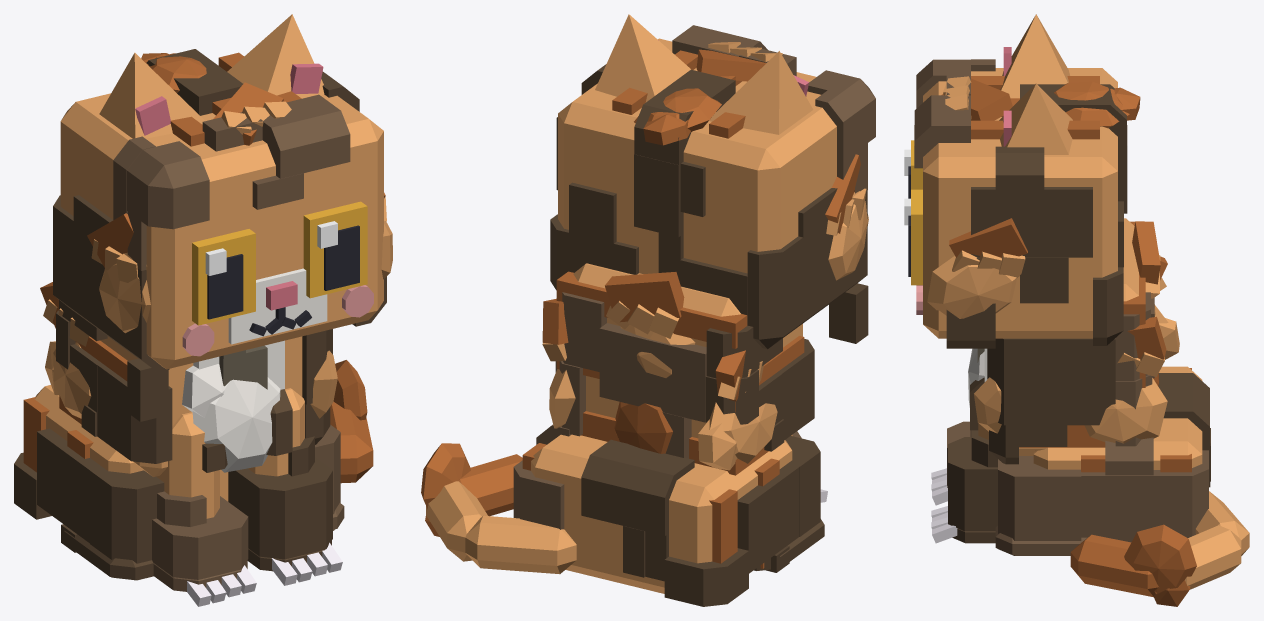
The model's file is CleanACat_Cat_Muffin_Dirty_Sit.fbx.
3 renders of one model, left to right at view 1: azimuth 30°, elevation 25°; view 2: azimuth 150°, elevation 25°; view 3: azimuth 270°, elevation 25°, orthographic. The views are drawn at different scales.
Visible parts, largest first — view 1: CleanACat_Cat_Muffin_Dirty_Sit_Head, CleanACat_Cat_Muffin_Dirty_Sit_Mud17, CleanACat_Cat_Muffin_Dirty_Sit_Mud01, CleanACat_Cat_Muffin_Dirty_Sit_Body, CleanACat_Cat_Muffin_Dirty_Sit_Mud06, CleanACat_Cat_Muffin_Dirty_Sit_Mud03, CleanACat_Cat_Muffin_Dirty_Sit_Mud18, CleanACat_Cat_Muffin_Dirty_Sit_Mud16, CleanACat_Cat_Muffin_Dirty_Sit_Fluff04, CleanACat_Cat_Muffin_Dirty_Sit_Mud14, CleanACat_Cat_Muffin_Dirty_Sit_Mud10, CleanACat_Cat_Muffin_Dirty_Sit_Eye1 (+23 smaller); view 2: CleanACat_Cat_Muffin_Dirty_Sit_Head, CleanACat_Cat_Muffin_Dirty_Sit_Body, CleanACat_Cat_Muffin_Dirty_Sit_Mud01, CleanACat_Cat_Muffin_Dirty_Sit_Mud09, CleanACat_Cat_Muffin_Dirty_Sit_Tail, CleanACat_Cat_Muffin_Dirty_Sit_Mud13, CleanACat_Cat_Muffin_Dirty_Sit_Mud04, CleanACat_Cat_Muffin_Dirty_Sit_Mud14, CleanACat_Cat_Muffin_Dirty_Sit_Mud05, CleanACat_Cat_Muffin_Dirty_Sit_Mud06, CleanACat_Cat_Muffin_Dirty_Sit_EarR, CleanACat_Cat_Muffin_Dirty_Sit_EarL (+17 smaller); view 3: CleanACat_Cat_Muffin_Dirty_Sit_Head, CleanACat_Cat_Muffin_Dirty_Sit_Mud02, CleanACat_Cat_Muffin_Dirty_Sit_Mud08, CleanACat_Cat_Muffin_Dirty_Sit_Mud12, CleanACat_Cat_Muffin_Dirty_Sit_Mud15, CleanACat_Cat_Muffin_Dirty_Sit_Tail, CleanACat_Cat_Muffin_Dirty_Sit_Body, CleanACat_Cat_Muffin_Dirty_Sit_Mud17, CleanACat_Cat_Muffin_Dirty_Sit_Fluff01, CleanACat_Cat_Muffin_Dirty_Sit_Fluff09, CleanACat_Cat_Muffin_Dirty_Sit_EarL, CleanACat_Cat_Muffin_Dirty_Sit_EarR (+17 smaller).
Part boxes in pixels (x1,y1,x2,y2): CleanACat_Cat_Muffin_Dirty_Sit_Head: [60, 52, 383, 369]; CleanACat_Cat_Muffin_Dirty_Sit_Mud17: [228, 436, 332, 571]; CleanACat_Cat_Muffin_Dirty_Sit_Mud01: [53, 195, 169, 421]; CleanACat_Cat_Muffin_Dirty_Sit_Body: [23, 336, 302, 501]; CleanACat_Cat_Muffin_Dirty_Sit_Mud06: [113, 136, 209, 270]; CleanACat_Cat_Muffin_Dirty_Sit_Mud03: [202, 94, 350, 209]; CleanACat_Cat_Muffin_Dirty_Sit_Mud18: [152, 491, 248, 591]; CleanACat_Cat_Muffin_Dirty_Sit_Mud16: [64, 467, 164, 580]; CleanACat_Cat_Muffin_Dirty_Sit_Fluff04: [182, 364, 280, 472]; CleanACat_Cat_Muffin_Dirty_Sit_Mud14: [14, 428, 102, 552]; CleanACat_Cat_Muffin_Dirty_Sit_Mud10: [70, 344, 172, 463]; CleanACat_Cat_Muffin_Dirty_Sit_Eye1: [303, 201, 367, 298]; CleanACat_Cat_Muffin_Dirty_Sit_Head: [558, 38, 836, 273]; CleanACat_Cat_Muffin_Dirty_Sit_Body: [522, 263, 804, 593]; CleanACat_Cat_Muffin_Dirty_Sit_Mud01: [680, 188, 868, 349]; CleanACat_Cat_Muffin_Dirty_Sit_Mud09: [555, 292, 706, 458]; CleanACat_Cat_Muffin_Dirty_Sit_Tail: [426, 454, 576, 574]; CleanACat_Cat_Muffin_Dirty_Sit_Mud13: [581, 439, 694, 581]; CleanACat_Cat_Muffin_Dirty_Sit_Mud04: [634, 69, 735, 283]; CleanACat_Cat_Muffin_Dirty_Sit_Mud14: [664, 464, 799, 606]; CleanACat_Cat_Muffin_Dirty_Sit_Mud05: [550, 182, 638, 290]; CleanACat_Cat_Muffin_Dirty_Sit_Mud06: [807, 70, 875, 193]; CleanACat_Cat_Muffin_Dirty_Sit_EarR: [709, 51, 813, 134]; CleanACat_Cat_Muffin_Dirty_Sit_EarL: [595, 14, 690, 102]; CleanACat_Cat_Muffin_Dirty_Sit_Head: [916, 68, 1117, 338]; CleanACat_Cat_Muffin_Dirty_Sit_Mud02: [946, 146, 1092, 348]; CleanACat_Cat_Muffin_Dirty_Sit_Mud08: [987, 338, 1115, 464]; CleanACat_Cat_Muffin_Dirty_Sit_Mud12: [1081, 437, 1208, 542]; CleanACat_Cat_Muffin_Dirty_Sit_Mud15: [995, 456, 1087, 555]; CleanACat_Cat_Muffin_Dirty_Sit_Tail: [1070, 491, 1249, 597]; CleanACat_Cat_Muffin_Dirty_Sit_Body: [984, 218, 1202, 472]; CleanACat_Cat_Muffin_Dirty_Sit_Mud17: [948, 430, 997, 543]; CleanACat_Cat_Muffin_Dirty_Sit_Fluff01: [927, 256, 1018, 318]; CleanACat_Cat_Muffin_Dirty_Sit_Fluff09: [1124, 524, 1196, 606]; CleanACat_Cat_Muffin_Dirty_Sit_EarL: [999, 83, 1072, 154]; CleanACat_Cat_Muffin_Dirty_Sit_EarR: [1000, 14, 1069, 98].
Bounding box in the file's own units: 1.3 × 1.86 × 1.24.
1 material, 1 textured.
